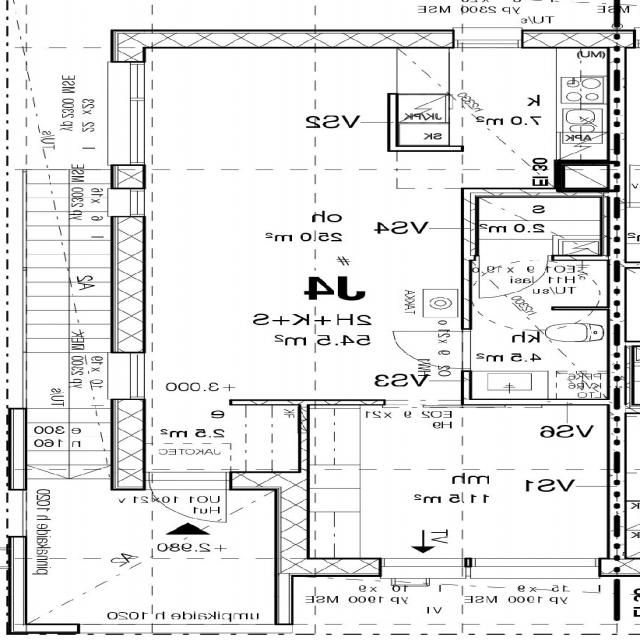door: (148, 472, 226, 532), (394, 331, 471, 368), (481, 255, 548, 297)
